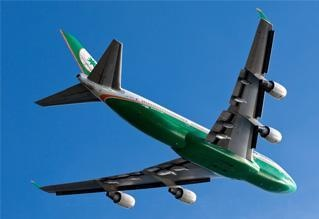airplane: (37, 9, 300, 196)
